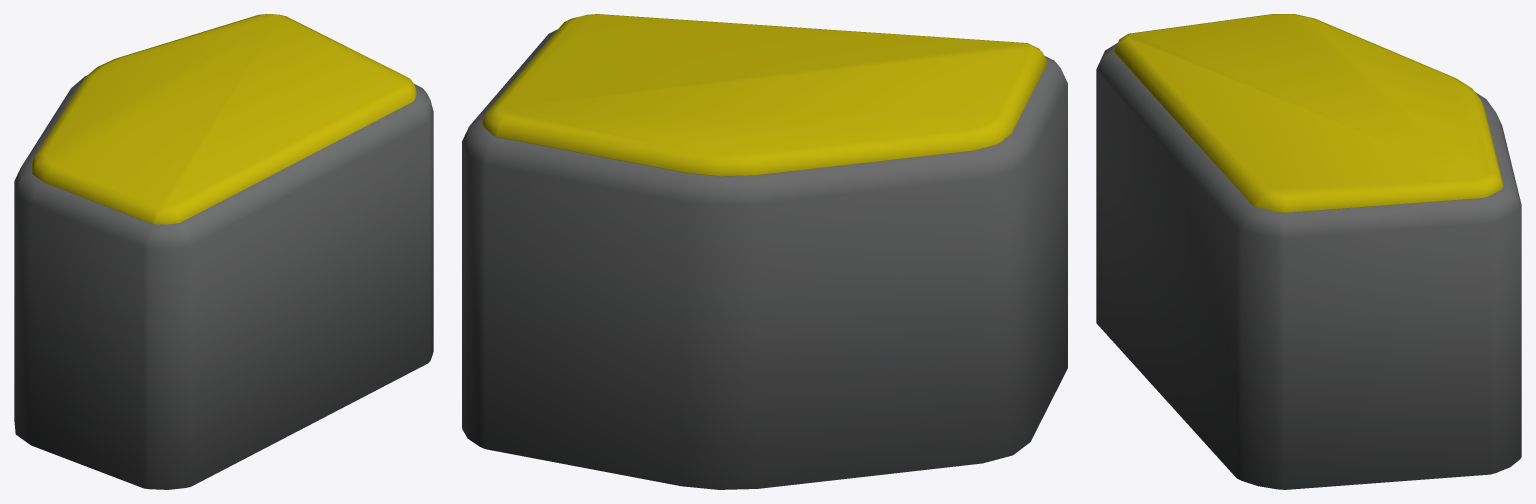
File: Rock1.fbx
3 renders of one model, left to right at view 1: azimuth 30°, elevation 25°; view 2: azimuth 150°, elevation 25°; view 3: azimuth 270°, elevation 25°, orthographic. The views are drawn at different scales.
Parts seen in each view (by area): view 1: Rock1; view 2: Rock1; view 3: Rock1.
Boxes of the visible parts, bbox=[...] form: Rock1: bbox=[14, 14, 433, 489]; Rock1: bbox=[462, 14, 1067, 489]; Rock1: bbox=[1096, 14, 1521, 489].
Size of the model in its own units: 1222 by 779 by 1064.
